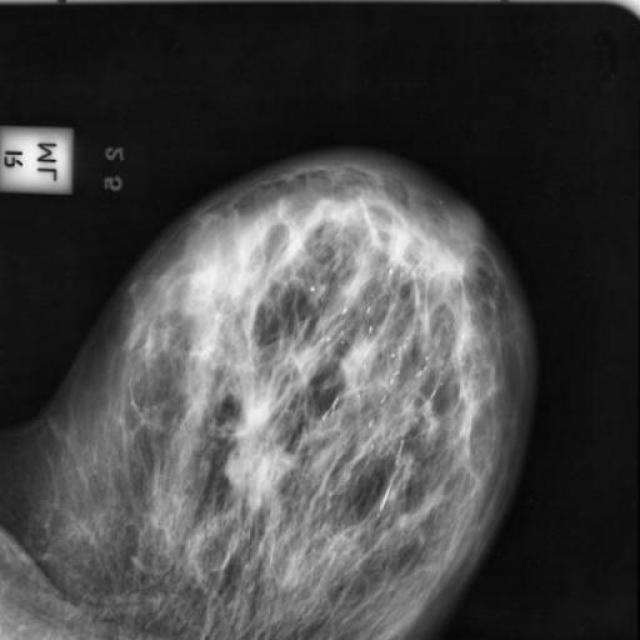cancer: (260, 182, 310, 244)
